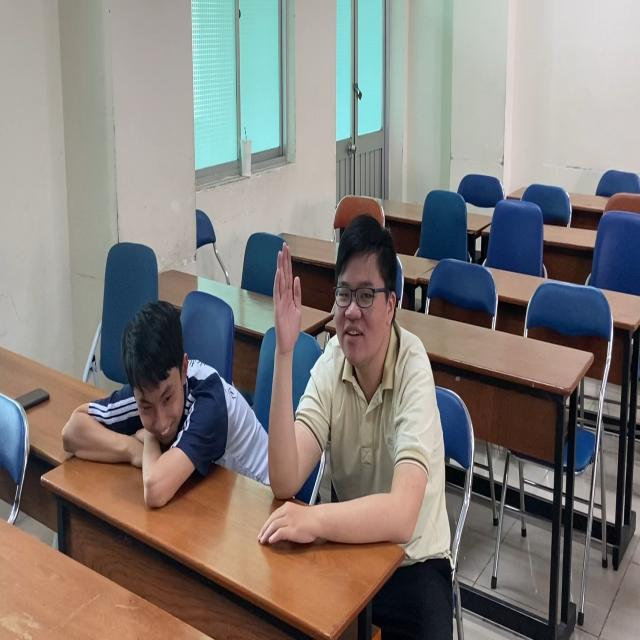raise_hand: (266, 219, 459, 584)
sleep: (56, 307, 268, 527)
